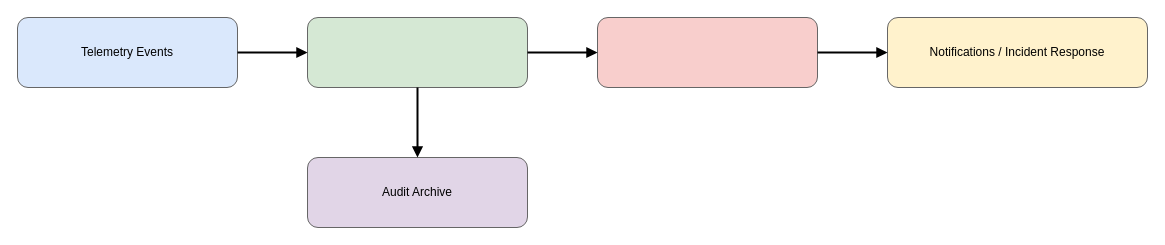
The diagram is 1165 pixels wide and 245 high, and some of its shapes have lost their labels. The shapes that lost their labels are listed below. From the top down, each one's centre as x and y in pixels, then its label:
At (417,52): "Detection Rules".
At (707,52): "Alert Routing".
